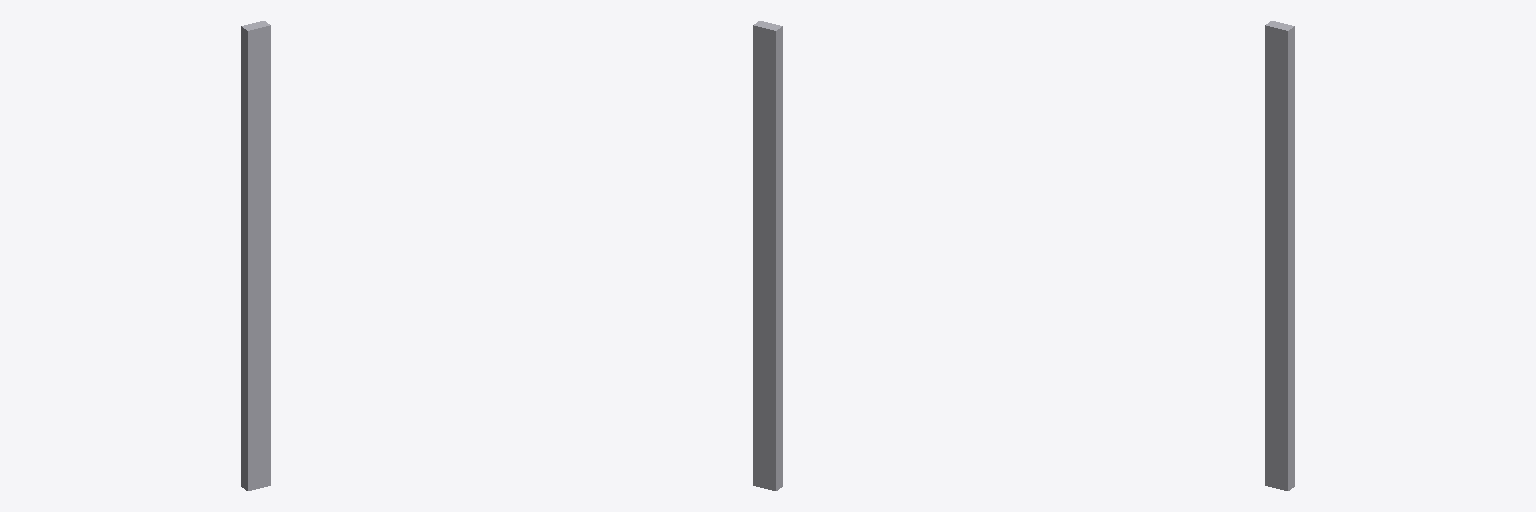
robot.urdf — fork_silver:
<?xml version="1.0"?>
<robot name="fork_silver">
  <link name="base_link">
    <inertial>
      <origin xyz="0 0 0.095000" rpy="0 0 0"/>
      <mass value="0.04"/>
      <inertia ixx="0.00012042" ixy="0" ixz="0" iyy="0.00012067" iyz="0" izz="0.00000042"/>
    </inertial>
    <visual>
      <origin xyz="0 0 0.095000" rpy="0 0 0"/>
      <geometry><box size="0.01 0.005 0.19"/></geometry>
      <material name="fork_silver_mat">
        <color rgba="0.75 0.75 0.78 1.0"/>
      </material>
    </visual>
    <collision>
      <origin xyz="0 0 0.095000" rpy="0 0 0"/>
      <geometry><box size="0.01 0.005 0.19"/></geometry>
    </collision>
  </link>
</robot>

--- What the picture shows (computed from the rendered views, not written in the file) ---
Views: 3 orthographic renders of the robot side by side, from view 1: azimuth 30°, elevation 25°; view 2: azimuth 150°, elevation 25°; view 3: azimuth 330°, elevation 25°.
Model fork_silver with 1 links and 0 joints (none), rooted at base_link, posed all joints at 0.
Links seen in each view (by area): view 1: base_link; view 2: base_link; view 3: base_link.
Link boxes in pixels (x1,y1,x2,y2): base_link: [241, 21, 270, 490]; base_link: [753, 21, 782, 490]; base_link: [1265, 21, 1294, 490].
Bounding box of the posed robot: 0.01 × 0.005 × 0.19 m (x, y, z).
Geometry: primitives only (box / cylinder / sphere), no mesh files.
